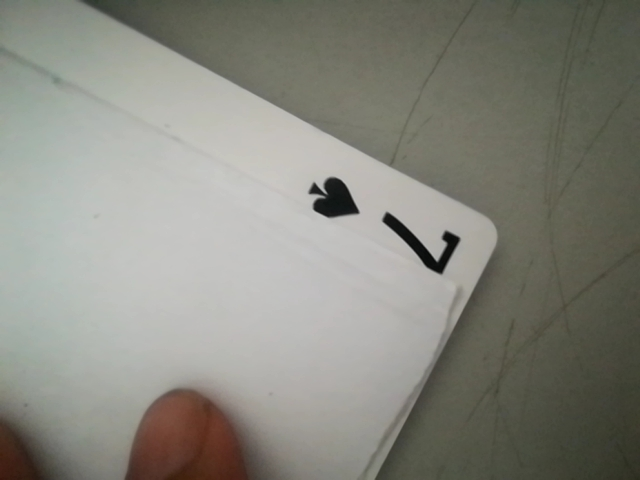ht 7: (291, 175, 482, 280)
